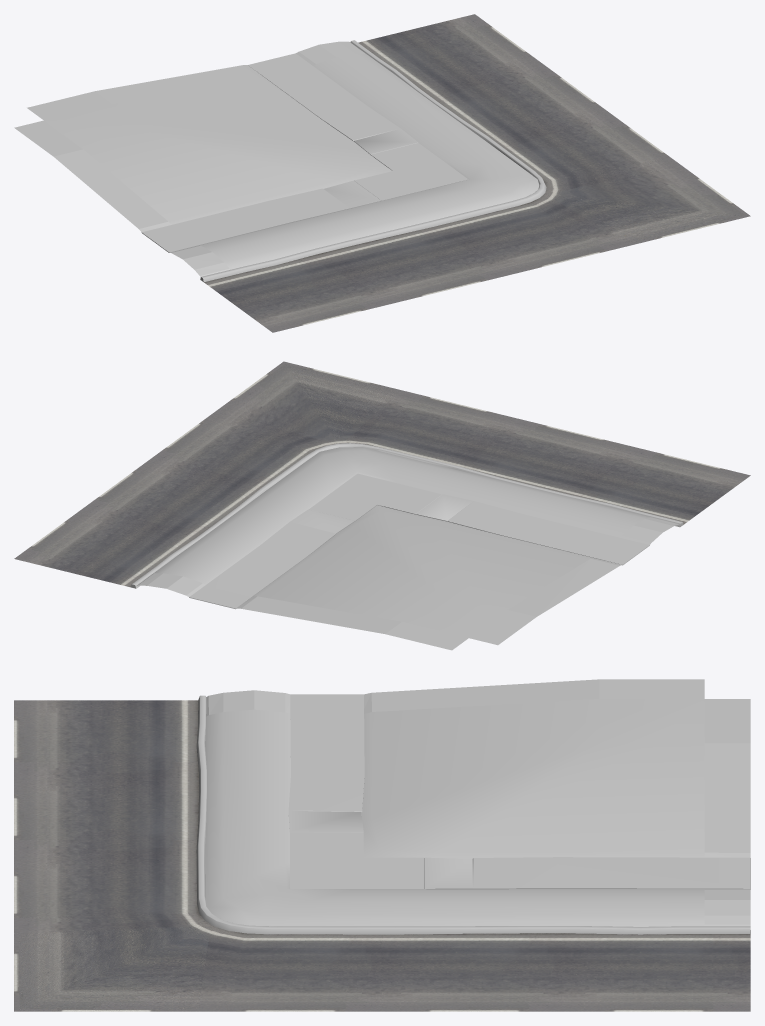
Rendered from Road_Corner.FBX.
3 views of the same model, one above another, from view 1: azimuth 30°, elevation 25°; view 2: azimuth 150°, elevation 25°; view 3: azimuth 270°, elevation 25° (orthographic). The views are drawn at different scales.
Parts seen in each view (by area): view 1: Road_Corner; view 2: Road_Corner; view 3: Road_Corner.
Boxes of the visible parts, x1,y1,x2,y2 form: Road_Corner: (14,14,750,332); Road_Corner: (14,361,750,650); Road_Corner: (14,679,750,1011).
Bounding box in the file's own units: 1600 × 50.07 × 1601.
